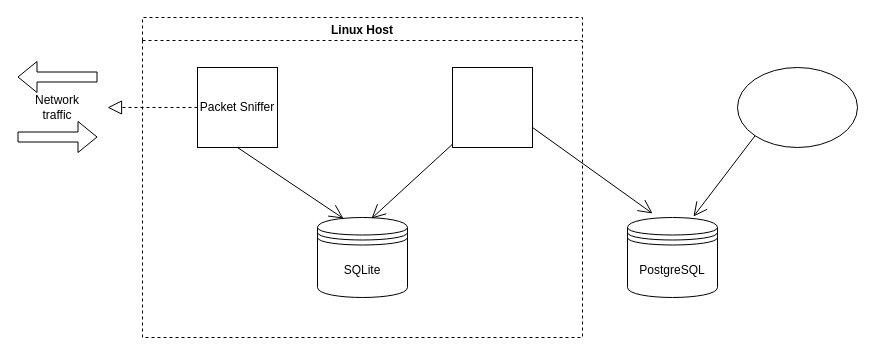
Some shapes in this 875 by 355 pixel diagram are drawn without their labels. Each missing label, with the centre of its shape:
"Data Exporter" goes at [492,107].
"Grafana" goes at [797,107].
